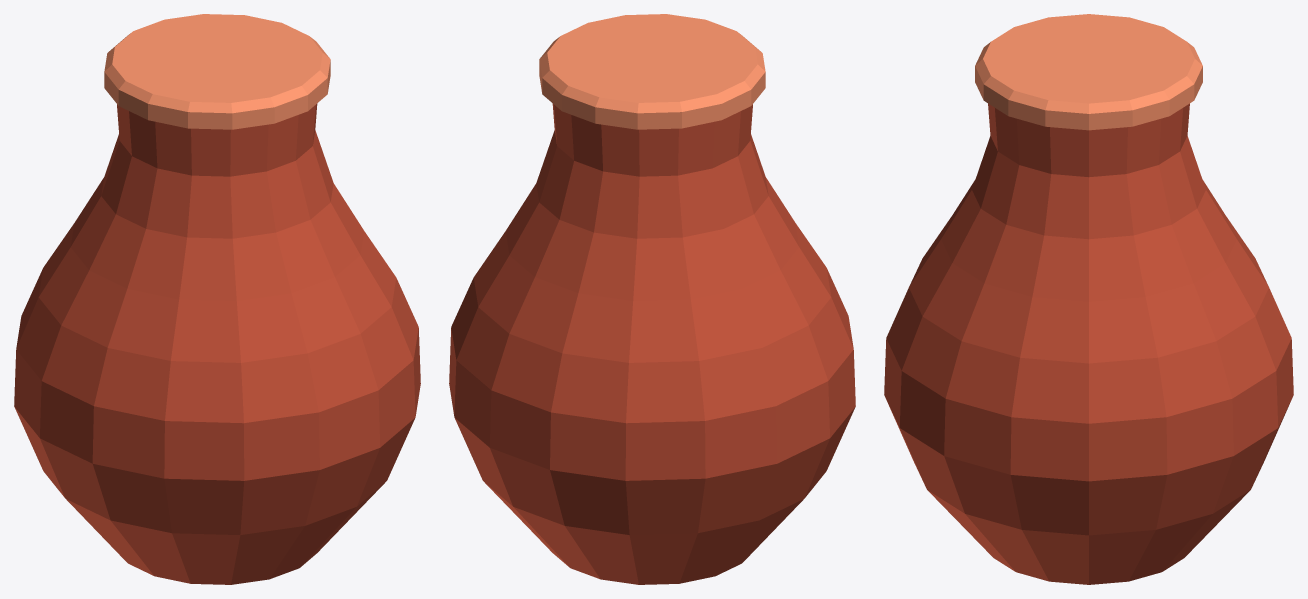
File: Pot_Big.fbx
3 renders of one model, left to right at view 1: azimuth 30°, elevation 25°; view 2: azimuth 150°, elevation 25°; view 3: azimuth 270°, elevation 25°, orthographic.
Parts seen in each view (by area): view 1: Pot_1; view 2: Pot_1; view 3: Pot_1.
Part boxes in pixels (x1,y1,x2,y2): Pot_1: [14, 14, 420, 584]; Pot_1: [449, 14, 855, 584]; Pot_1: [884, 14, 1293, 584].
Size of the model in its own units: 0.7926 by 0.7926 by 1.03.
